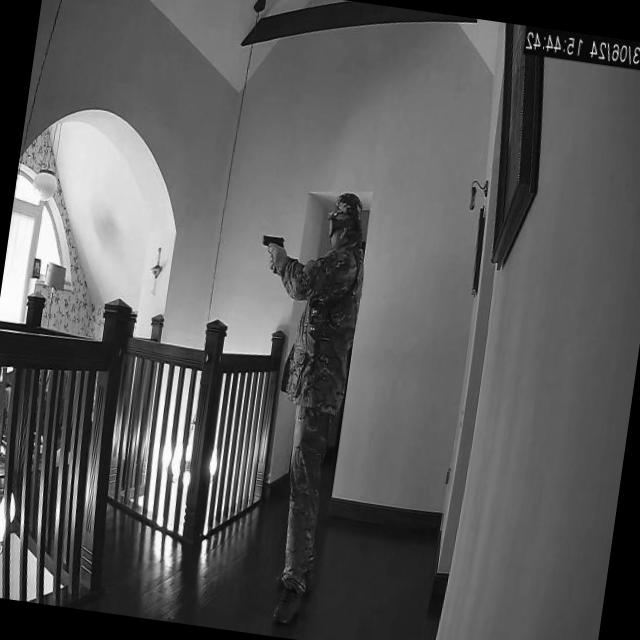gun: (258, 232, 284, 270)
person with a gun: (240, 186, 374, 635)
